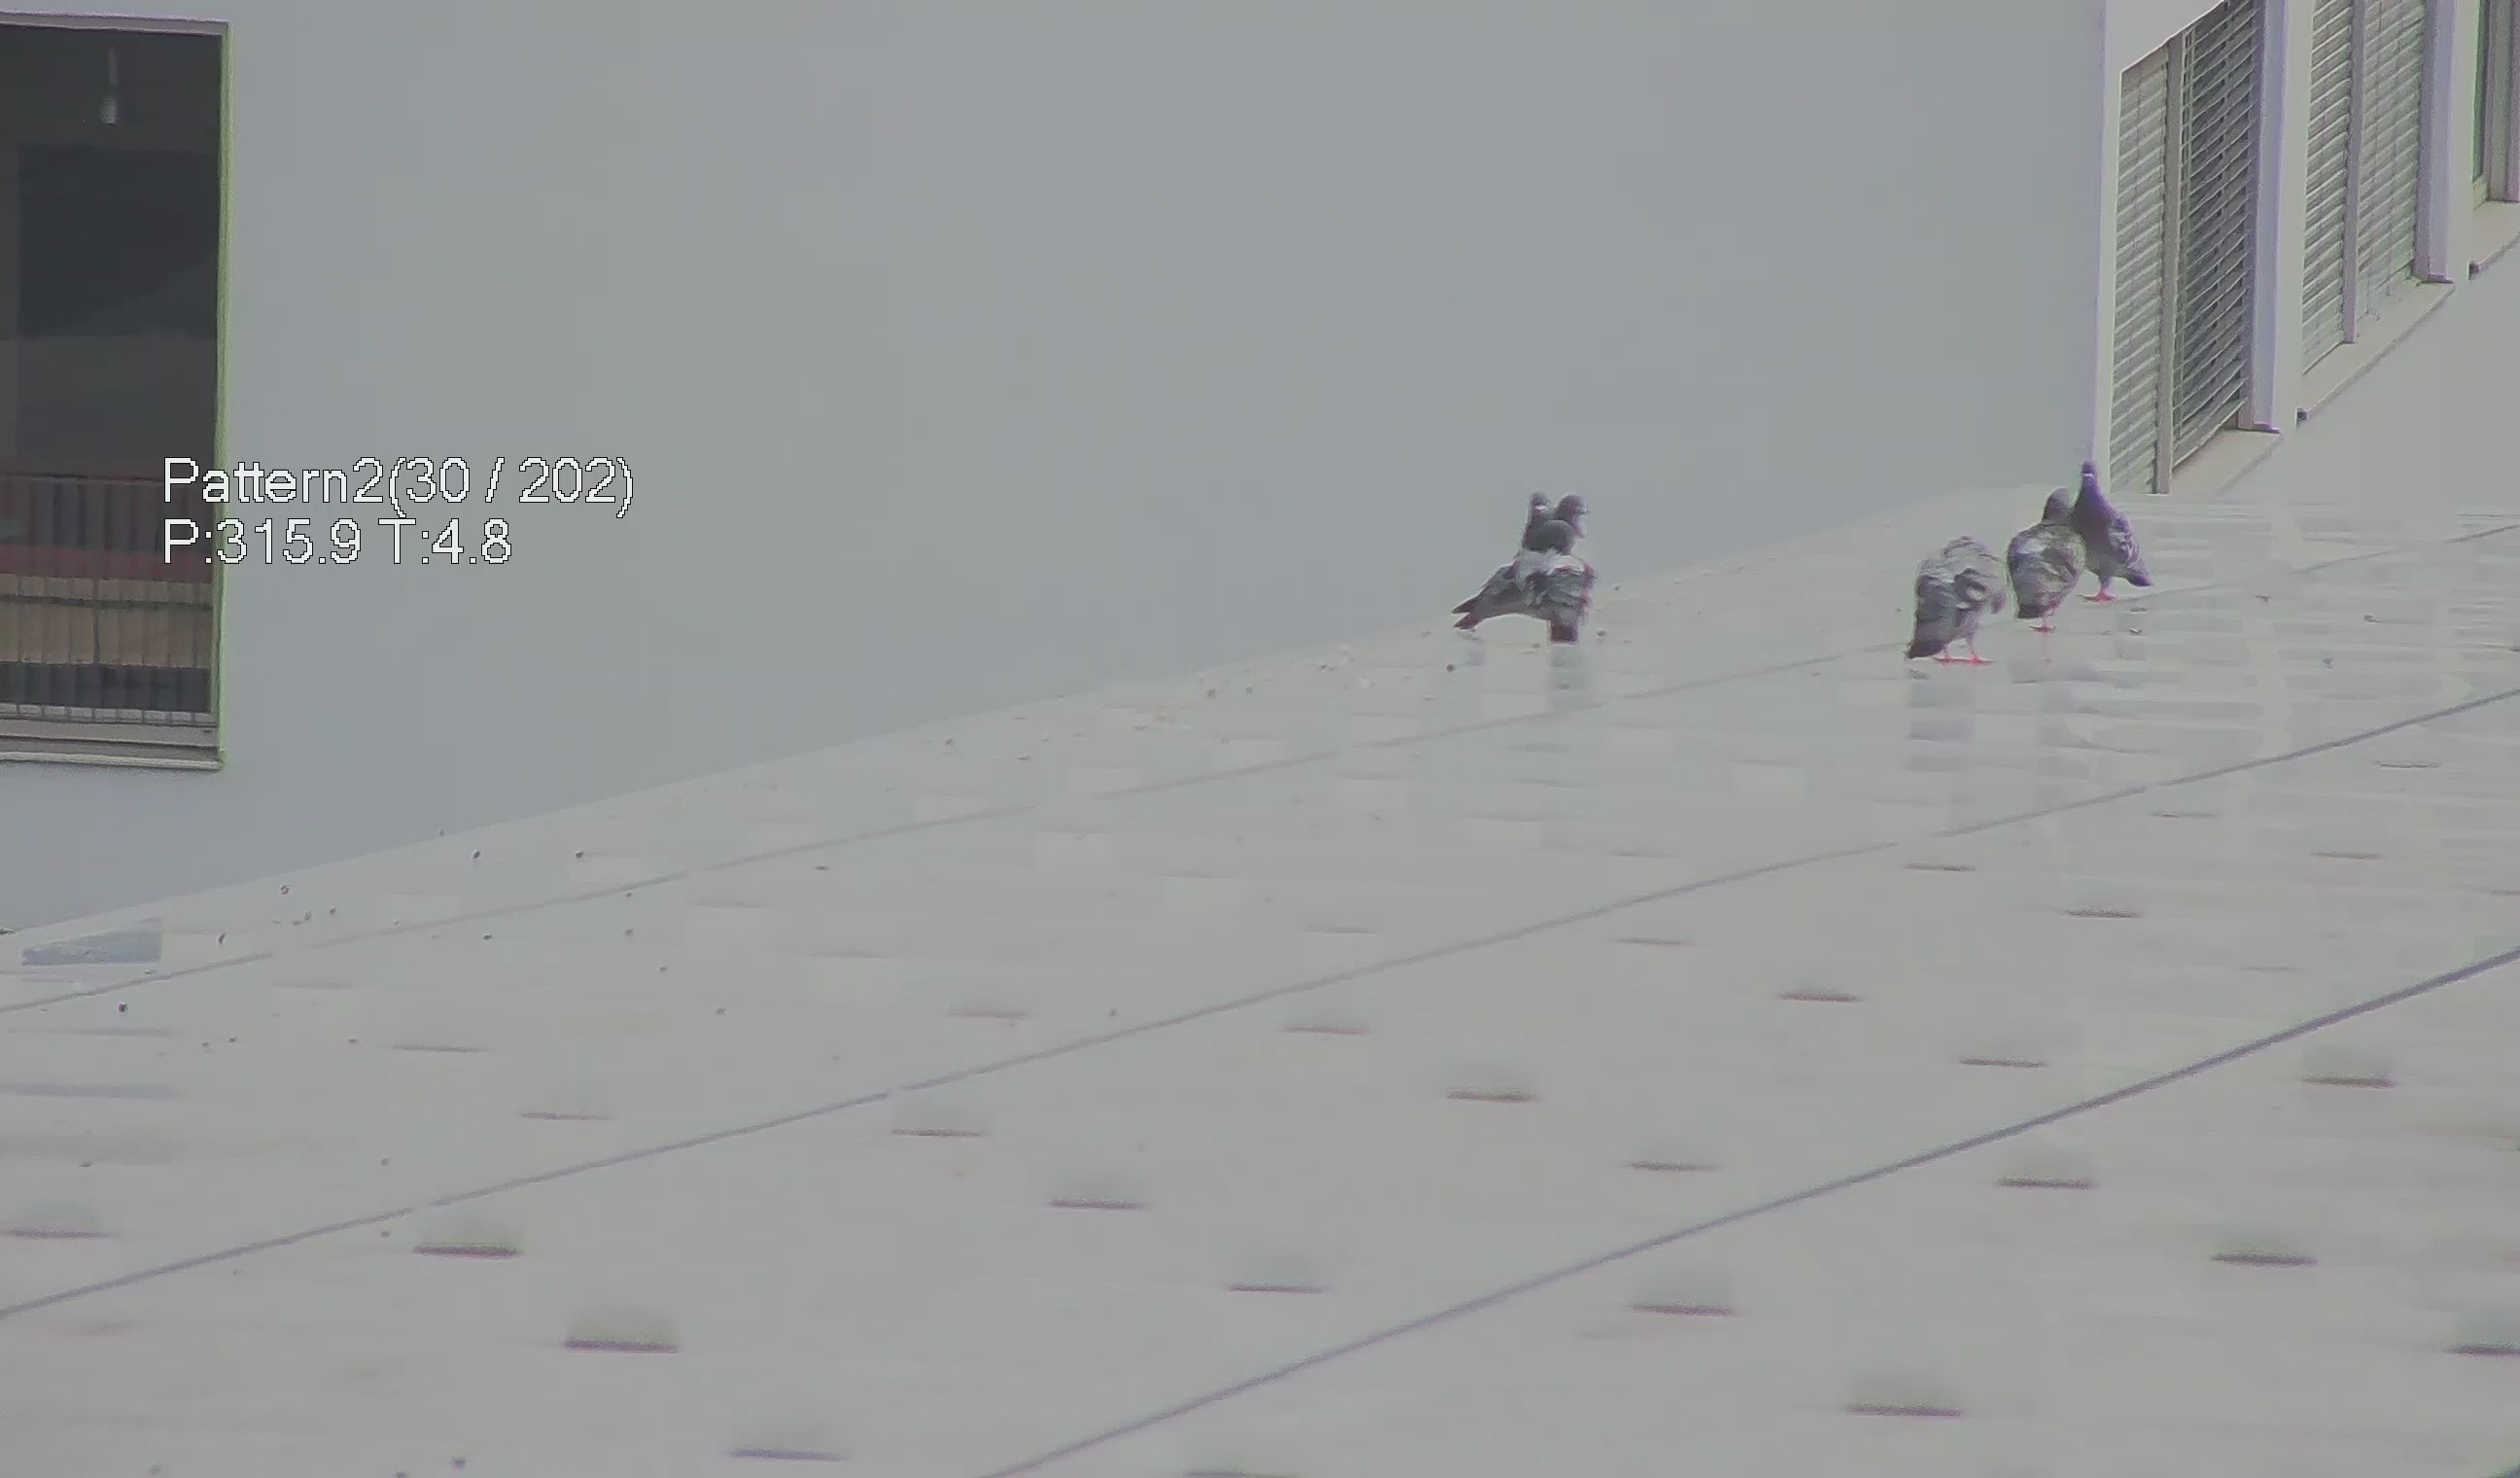Pigeon: (2066, 447, 2163, 616), (1901, 531, 2010, 674), (1516, 519, 1620, 655), (2012, 477, 2080, 635), (1497, 484, 1600, 552)
